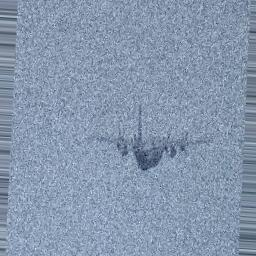Airplane: (95, 106, 208, 173)
